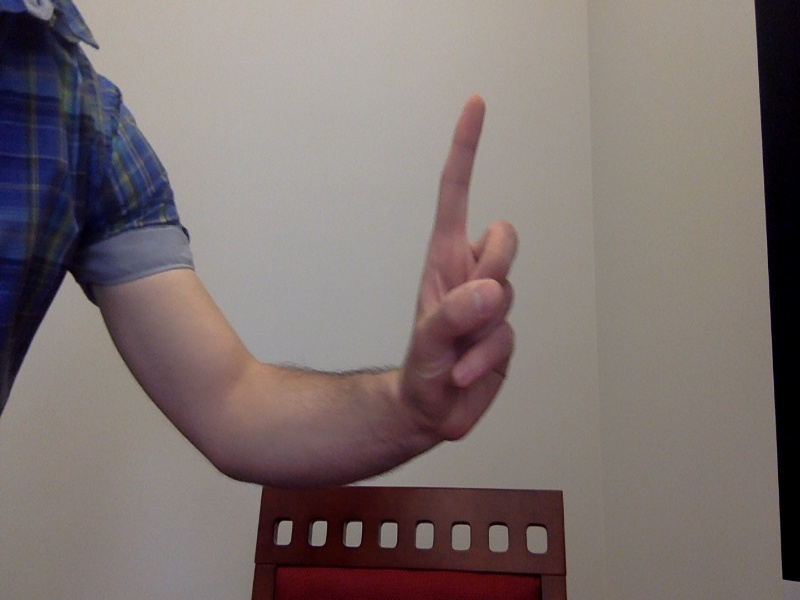1-hand: (401, 96, 523, 437)
